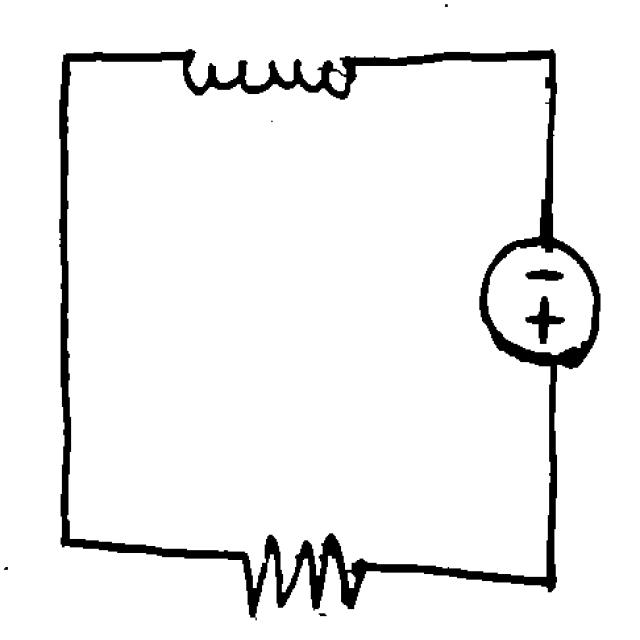dc: (464, 229, 614, 376)
inductor: (165, 33, 371, 117)
resistor: (223, 522, 378, 626)
